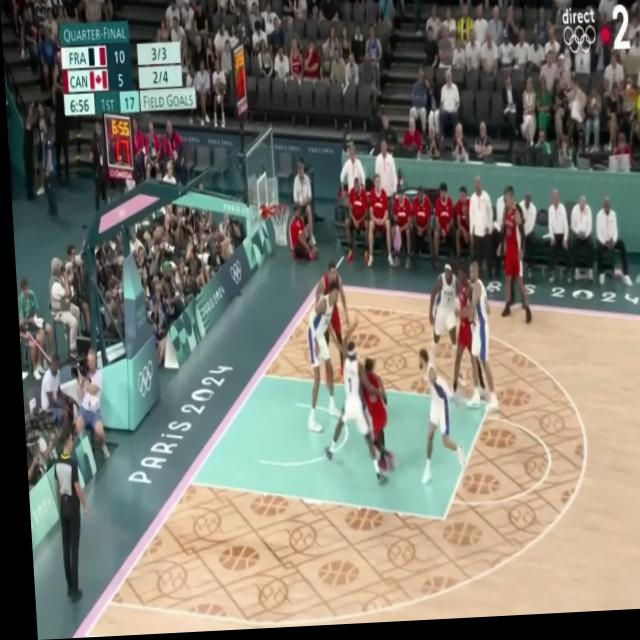ball_handler: (351, 360, 387, 477)
